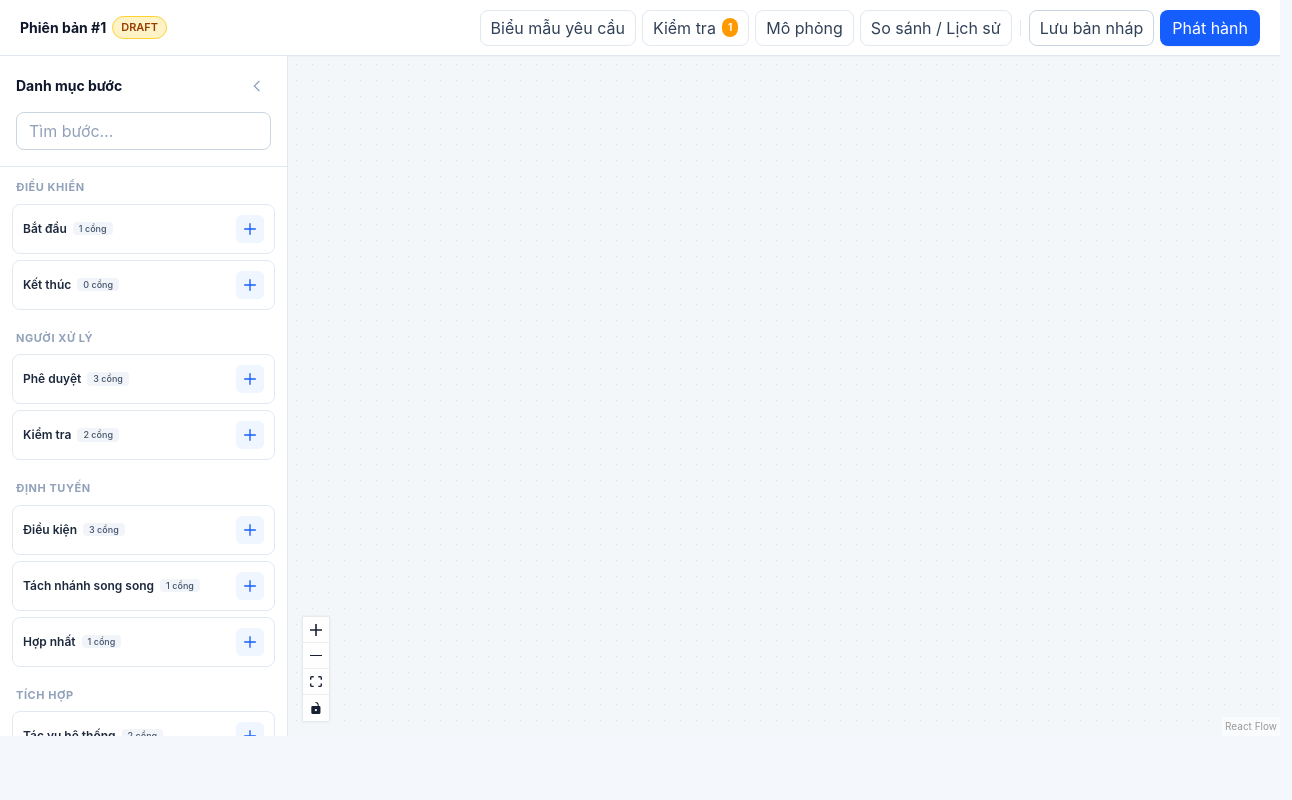
Test: WorkflowBuilder Component › shows save API errors instead of creating an unhandled rejection
Click the button with test id "toolbar-save-draft-button" at (1091, 28), box left=1029, top=10, right=1154, bottom=46
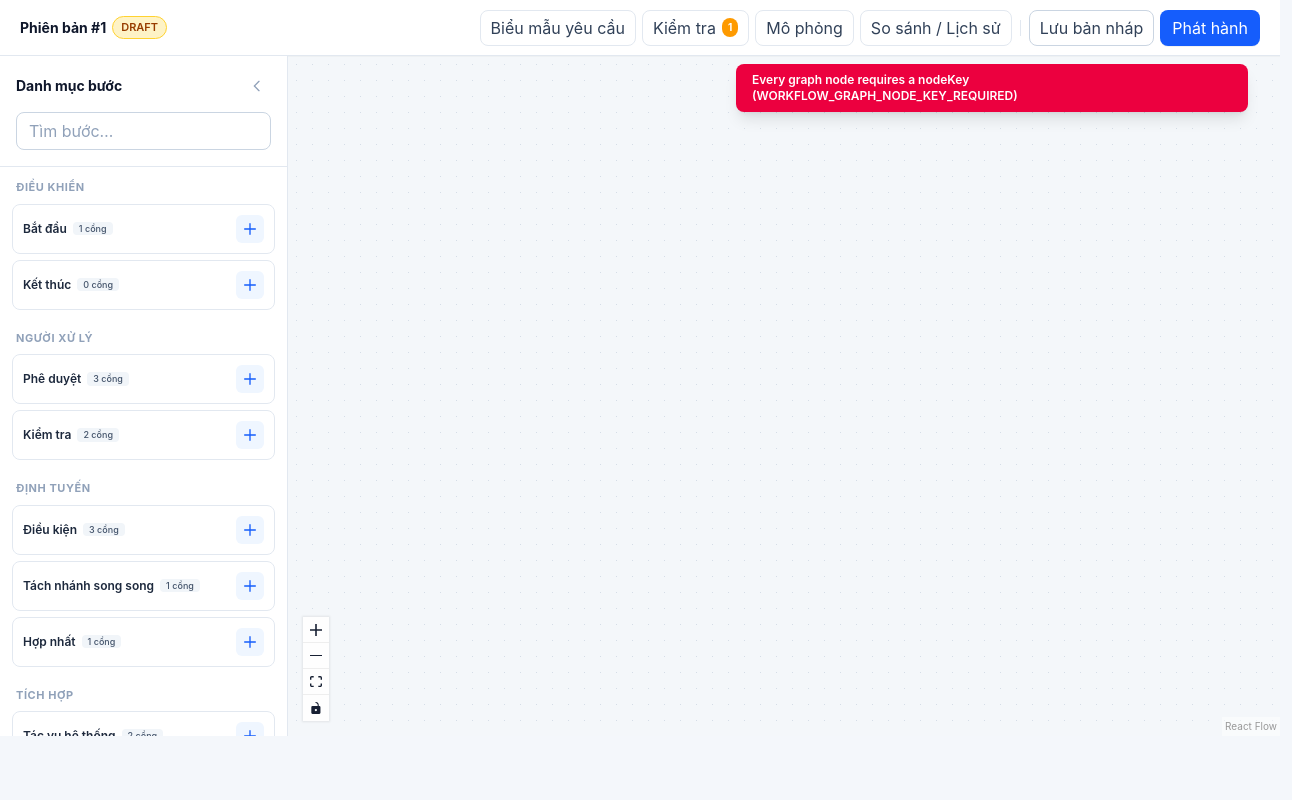
Expected: the message reads "Every graph node requires a nodeKey (WORKFLOW_GRAPH_NODE_KEY_REQUIRED)", left=752, top=72, right=1018, bottom=103
